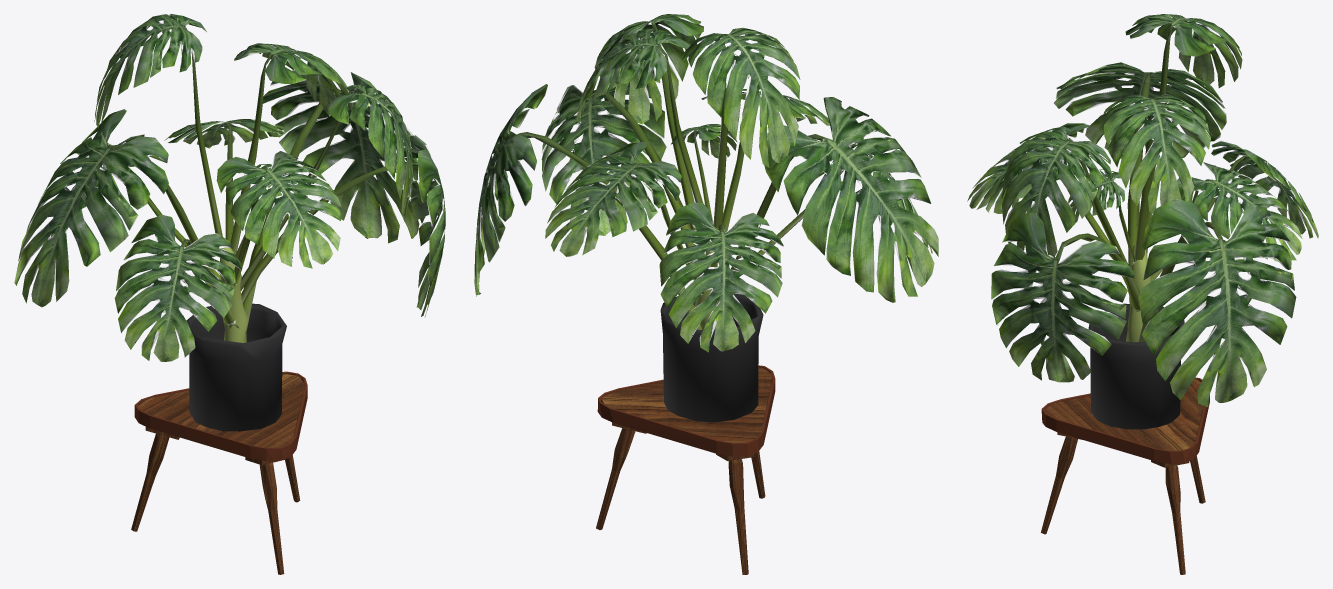
The model's file is plant1.gltf.
The picture shows the model from 3 angles, left to right: view 1: azimuth 30°, elevation 25°; view 2: azimuth 150°, elevation 25°; view 3: azimuth 270°, elevation 25°; orthographic projection. The views are drawn at different scales.
Visible parts, largest first — view 1: TABLE_Defintion, MONSTERA_Defintion; view 2: TABLE_Defintion; view 3: TABLE_Defintion, MONSTERA_Defintion.
Part boxes in pixels (x1,y1,x2,y2): TABLE_Defintion: [14, 14, 445, 574]; MONSTERA_Defintion: [220, 247, 248, 342]; TABLE_Defintion: [474, 14, 938, 574]; TABLE_Defintion: [967, 14, 1318, 574]; MONSTERA_Defintion: [1126, 244, 1151, 342].
Size of the model in its own units: 0.8249 by 0.99 by 0.6352.
5 materials, 2 textured.
